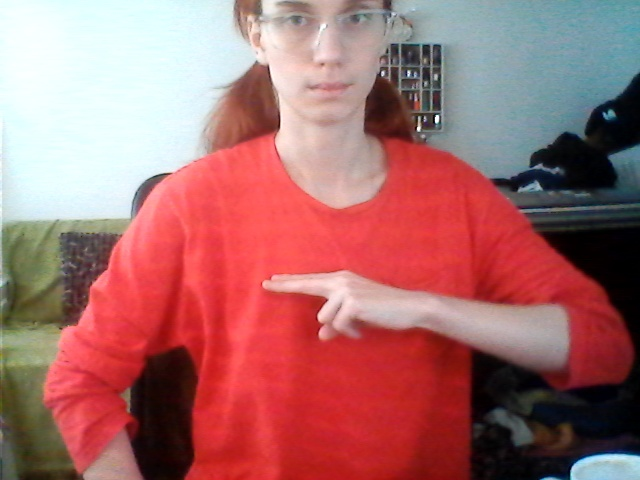frajer: (248, 250, 430, 363)
